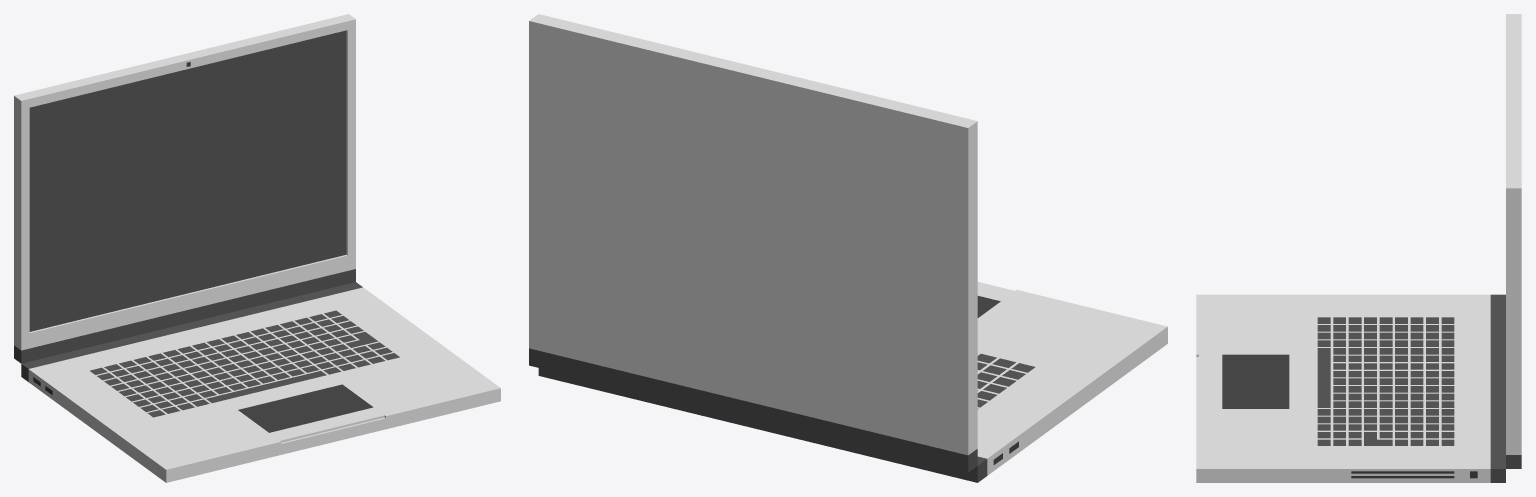
Rendered from notebook3d.gltf.
The picture shows the model from 3 angles, left to right: view 1: azimuth 30°, elevation 25°; view 2: azimuth 150°, elevation 25°; view 3: azimuth 270°, elevation 25°; orthographic projection. The views are drawn at different scales.
Parts seen in each view (by area): view 1: notebook3d; view 2: notebook3d; view 3: notebook3d.
Boxes of the visible parts, bbox=[...] form: notebook3d: bbox=[14, 14, 500, 482]; notebook3d: bbox=[529, 14, 1167, 482]; notebook3d: bbox=[1196, 14, 1521, 482].
Bounding box in the file's own units: 16 × 12.6 × 12.6.
Materials: 1 (1 with a texture image).
